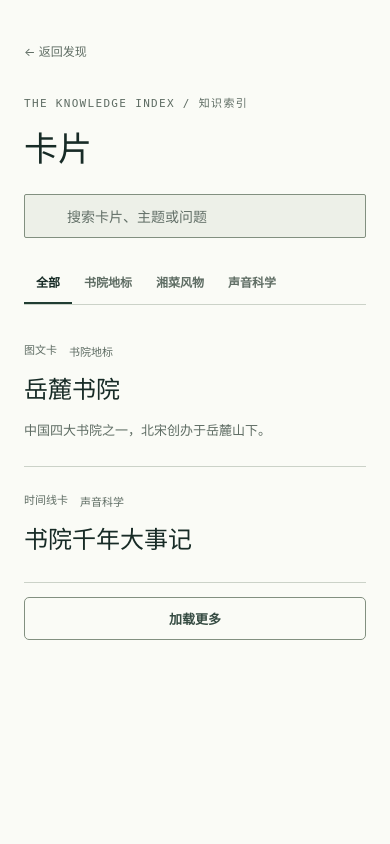
Test case: CardsView(/cards 列表页) › 点「加载更多」带 cursor 追加下一页,无 nextCursor 后显示「没有更多了」
The width and height of the screenshot is (390, 844).
Step 1. Click the button with class "more" → {"x": 195, "y": 619}, box [24,597,366,640]
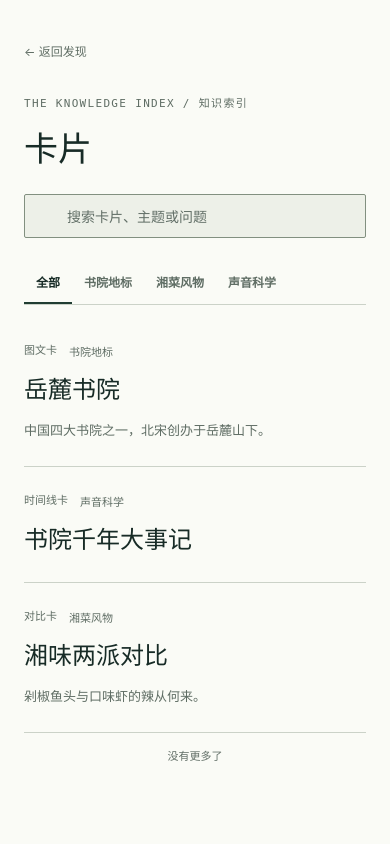
Check: the number of buttons with class "cardrow" is 3, box [24,317,366,468]; [24,468,366,583]; [24,583,366,733]
Check: the text "没有更多了" is shown, box [168,749,222,763]
